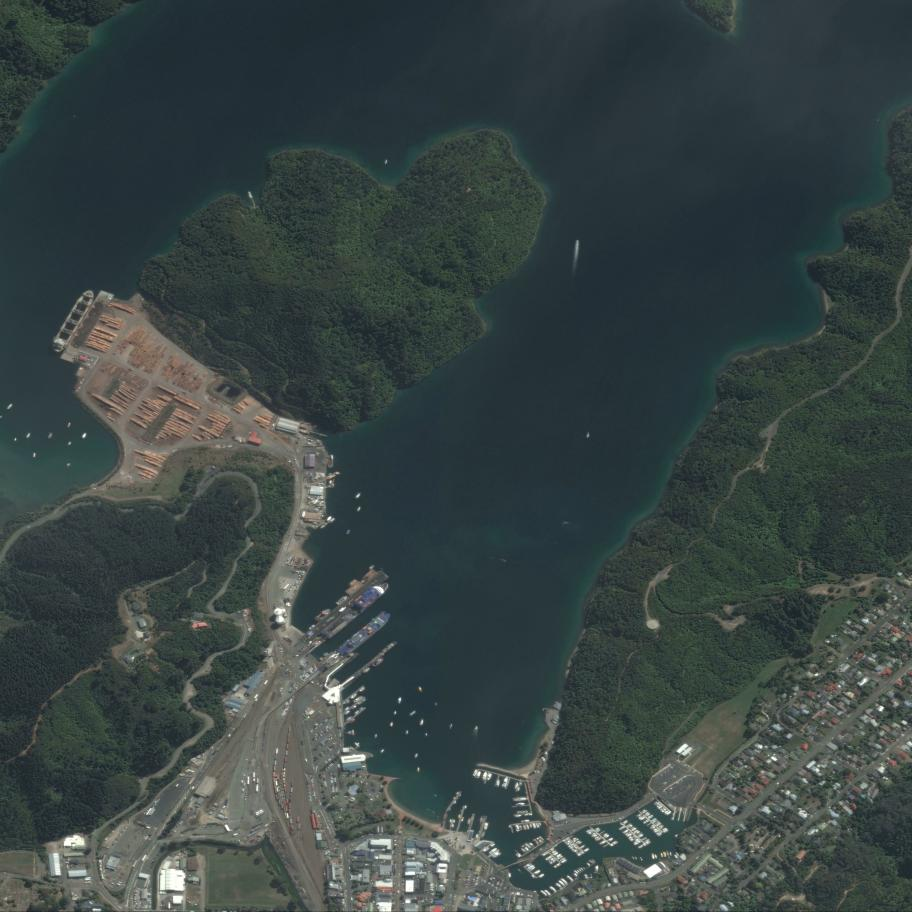large-vehicle: (141, 854, 147, 863), (150, 808, 156, 816), (168, 902, 171, 909), (264, 680, 268, 685), (254, 694, 258, 699), (191, 786, 195, 790), (256, 784, 258, 792), (313, 700, 317, 704), (312, 696, 316, 700), (316, 682, 320, 686), (176, 783, 179, 787), (319, 684, 323, 687), (85, 879, 91, 881), (85, 877, 91, 879), (117, 883, 121, 886), (253, 772, 255, 778), (163, 899, 165, 904), (257, 778, 259, 783), (253, 778, 255, 782), (111, 883, 114, 885)
plane: (354, 741, 361, 747)
ship: (321, 577, 393, 641), (325, 609, 395, 669), (48, 284, 99, 356), (314, 607, 332, 623), (371, 656, 385, 668), (336, 594, 348, 606), (361, 666, 372, 675), (501, 776, 509, 788), (492, 850, 502, 859), (353, 695, 363, 704), (348, 578, 357, 587), (357, 698, 367, 706), (513, 797, 528, 802), (482, 771, 488, 782), (558, 879, 566, 887), (549, 885, 557, 893), (524, 842, 532, 850), (522, 844, 530, 852), (489, 847, 497, 855), (540, 890, 548, 897), (566, 875, 574, 882), (561, 877, 568, 885), (544, 889, 552, 896), (643, 840, 651, 847), (482, 846, 490, 853), (486, 773, 493, 781), (533, 869, 541, 876), (610, 840, 618, 847), (517, 810, 528, 815), (299, 429, 310, 434), (483, 822, 489, 831), (480, 830, 486, 839), (516, 802, 526, 807), (634, 839, 641, 846), (632, 837, 639, 844), (533, 838, 540, 845), (528, 841, 535, 848), (515, 852, 522, 859), (409, 710, 416, 717), (351, 692, 358, 699), (525, 862, 532, 869), (368, 564, 375, 571), (307, 498, 314, 505), (25, 431, 31, 439), (348, 718, 356, 724), (301, 510, 306, 519), (556, 882, 562, 889), (583, 847, 590, 853), (47, 432, 53, 439), (630, 836, 637, 842), (628, 834, 635, 840), (7, 403, 13, 410), (520, 847, 526, 854), (345, 716, 352, 722), (542, 852, 549, 858), (555, 853, 562, 859), (557, 855, 564, 861), (554, 863, 561, 869), (548, 857, 555, 863), (546, 855, 553, 861), (603, 834, 610, 840), (601, 832, 608, 838), (326, 515, 332, 522), (82, 431, 87, 439), (514, 782, 519, 790), (476, 771, 481, 779), (496, 779, 501, 787), (397, 696, 402, 704), (586, 828, 592, 834), (578, 851, 584, 857), (623, 829, 629, 835), (521, 819, 530, 823), (643, 819, 649, 825), (539, 873, 545, 879), (529, 866, 535, 872), (551, 849, 557, 855), (553, 851, 559, 857), (550, 859, 556, 865), (343, 699, 349, 705), (309, 624, 315, 630), (329, 517, 335, 523), (355, 493, 361, 499), (594, 865, 599, 872), (625, 831, 632, 836), (515, 825, 520, 832), (527, 865, 534, 870), (548, 848, 555, 853), (561, 859, 568, 864), (619, 826, 626, 831), (419, 719, 424, 726), (524, 813, 532, 817), (479, 816, 483, 824), (473, 769, 477, 777), (658, 824, 664, 829), (656, 822, 662, 827), (651, 817, 657, 822), (647, 814, 653, 819), (567, 841, 573, 846), (580, 844, 586, 849), (576, 850, 582, 855), (574, 848, 580, 853), (572, 846, 578, 851), (594, 835, 600, 840), (592, 834, 598, 839), (627, 833, 633, 838), (563, 838, 569, 843), (537, 837, 542, 843), (490, 843, 496, 848), (656, 803, 662, 808), (666, 811, 672, 816), (638, 814, 644, 819), (560, 857, 566, 862), (627, 824, 633, 829), (600, 840, 606, 845), (608, 837, 613, 843), (631, 827, 637, 832), (596, 837, 602, 842), (633, 829, 639, 834), (570, 845, 576, 850), (568, 843, 574, 848), (344, 706, 350, 711), (351, 705, 357, 710), (354, 710, 360, 715), (356, 506, 361, 512), (313, 499, 318, 505), (467, 818, 471, 825), (515, 814, 522, 818), (522, 824, 526, 831), (331, 482, 335, 489), (655, 829, 660, 834), (651, 826, 656, 831), (591, 832, 596, 837), (539, 836, 544, 841), (653, 819, 658, 824), (589, 830, 594, 835), (577, 867, 582, 872), (573, 872, 578, 877), (574, 838, 579, 843), (639, 844, 644, 849), (644, 838, 649, 843), (635, 830, 640, 835), (565, 839, 570, 844), (658, 805, 663, 810), (662, 808, 667, 813), (380, 749, 385, 754), (626, 823, 631, 828), (623, 819, 628, 824), (319, 499, 324, 504), (360, 687, 365, 692), (345, 710, 350, 715), (316, 499, 321, 504), (320, 524, 325, 529), (311, 499, 316, 504), (656, 831, 662, 835), (654, 821, 660, 825), (460, 816, 464, 822), (67, 422, 71, 428), (642, 837, 648, 841), (575, 840, 581, 844), (663, 851, 667, 857), (651, 853, 655, 859), (642, 810, 648, 814), (640, 817, 646, 821), (418, 686, 422, 692), (519, 825, 523, 831), (526, 824, 530, 830), (532, 823, 536, 829), (328, 479, 332, 485), (449, 723, 453, 729), (346, 529, 350, 535), (536, 822, 539, 829), (674, 854, 678, 859), (676, 852, 680, 857), (664, 829, 669, 833), (646, 813, 651, 817), (644, 812, 649, 816), (662, 827, 667, 831), (384, 159, 388, 164), (68, 441, 72, 446), (572, 837, 577, 841), (519, 782, 523, 787), (453, 800, 457, 805), (455, 791, 459, 796), (517, 787, 521, 792), (531, 874, 535, 879), (653, 801, 658, 805), (655, 803, 660, 807), (660, 807, 665, 811), (664, 810, 669, 814), (649, 824, 654, 828), (405, 730, 409, 735), (414, 753, 418, 758), (653, 827, 658, 831), (591, 859, 596, 863), (596, 829, 601, 833), (630, 826, 635, 830), (346, 700, 351, 704), (669, 851, 672, 857), (475, 833, 478, 839), (374, 733, 377, 739), (674, 834, 678, 838), (574, 870, 578, 874), (451, 824, 455, 828), (580, 867, 584, 871), (576, 869, 580, 873), (639, 857, 643, 861), (631, 856, 635, 860), (578, 841, 582, 845), (639, 834, 643, 838), (458, 794, 462, 798), (508, 825, 512, 829), (658, 833, 662, 837), (517, 868, 521, 872), (586, 862, 590, 866), (595, 827, 599, 831), (359, 706, 363, 710), (328, 472, 332, 476), (666, 851, 669, 856), (33, 452, 36, 457), (584, 874, 587, 879), (318, 506, 323, 509), (394, 710, 397, 715), (390, 722, 393, 727), (660, 852, 663, 857), (654, 854, 657, 859), (508, 873, 511, 878), (529, 823, 532, 828), (434, 702, 437, 707), (317, 504, 324, 506), (449, 819, 452, 823), (66, 463, 69, 467), (634, 856, 637, 860), (14, 437, 17, 441), (500, 775, 504, 778), (453, 796, 456, 800), (475, 726, 478, 730), (576, 240, 579, 244), (638, 814, 642, 817), (453, 820, 456, 824), (539, 822, 542, 826), (458, 814, 460, 819), (417, 767, 419, 772), (352, 730, 354, 735), (68, 463, 71, 466), (448, 808, 451, 811), (642, 809, 645, 812), (465, 805, 467, 809), (425, 733, 427, 737), (675, 811, 677, 814), (672, 813, 674, 816), (671, 817, 673, 820), (660, 827, 663, 829), (533, 891, 537, 892), (517, 888, 521, 889), (683, 812, 684, 815)
small-vehicle: (760, 846, 764, 850), (118, 881, 122, 884), (309, 669, 312, 672), (306, 675, 309, 678), (314, 669, 317, 672), (637, 806, 640, 809), (304, 673, 307, 676), (305, 674, 308, 677), (299, 675, 302, 678), (292, 685, 295, 688), (293, 683, 296, 686), (304, 663, 307, 666), (572, 829, 575, 832), (331, 763, 334, 766), (539, 848, 542, 851), (666, 802, 669, 805), (327, 766, 330, 769), (306, 708, 309, 711), (124, 826, 127, 829), (281, 664, 284, 667), (351, 848, 354, 851), (401, 902, 404, 905), (312, 786, 315, 789), (311, 784, 314, 787), (311, 781, 314, 784), (313, 794, 316, 797), (331, 821, 334, 824), (334, 780, 337, 783), (290, 596, 293, 599), (334, 778, 337, 781), (370, 794, 373, 797), (669, 804, 672, 807), (826, 803, 829, 806), (828, 806, 831, 809), (676, 759, 679, 762), (901, 745, 904, 748), (705, 863, 708, 866), (715, 849, 718, 852), (771, 835, 774, 838), (402, 882, 405, 885), (856, 768, 859, 771), (528, 774, 531, 777), (886, 614, 889, 617), (701, 846, 704, 849), (394, 851, 397, 854), (403, 847, 406, 850), (93, 488, 97, 490), (431, 893, 435, 895), (664, 782, 668, 784), (283, 712, 285, 715), (310, 670, 312, 673), (292, 695, 294, 698), (310, 671, 313, 673), (316, 668, 318, 671), (244, 714, 247, 716), (539, 905, 541, 908), (287, 706, 289, 709), (286, 708, 288, 711), (285, 708, 287, 711), (460, 902, 463, 904), (445, 904, 447, 907), (631, 810, 633, 813), (495, 888, 498, 890), (669, 888, 671, 891), (640, 882, 643, 884), (619, 817, 621, 820), (621, 817, 624, 819), (622, 816, 625, 818), (315, 666, 317, 669), (431, 886, 434, 888), (632, 896, 635, 898), (457, 880, 460, 882), (450, 894, 452, 897), (316, 745, 319, 747), (321, 752, 324, 754), (315, 738, 317, 741), (319, 742, 322, 744), (536, 906, 539, 908), (301, 678, 303, 681), (305, 662, 307, 665), (304, 660, 307, 662), (304, 672, 306, 675), (308, 668, 310, 671), (307, 670, 309, 673), (319, 746, 321, 749), (284, 712, 286, 715), (311, 667, 313, 670), (577, 826, 579, 829), (546, 844, 549, 846), (334, 848, 337, 850), (465, 874, 468, 876), (463, 879, 466, 881), (491, 884, 494, 886), (491, 883, 494, 885), (492, 880, 495, 882), (295, 687, 298, 689), (289, 689, 291, 692), (282, 711, 284, 714), (457, 882, 460, 884), (323, 739, 326, 741), (243, 774, 245, 777), (651, 798, 654, 800), (325, 761, 327, 764), (325, 738, 328, 740), (329, 727, 331, 730), (304, 711, 307, 713), (320, 734, 322, 737), (281, 692, 283, 695), (496, 901, 499, 903), (667, 803, 670, 805), (668, 803, 670, 806), (538, 905, 540, 908), (325, 768, 328, 770), (326, 729, 328, 732), (282, 716, 284, 719), (316, 726, 318, 729), (330, 723, 333, 725), (318, 733, 321, 735), (233, 728, 235, 731), (312, 729, 314, 732), (307, 707, 310, 709), (328, 728, 330, 731), (322, 740, 325, 742), (125, 825, 128, 827), (114, 840, 117, 842), (115, 838, 118, 840), (119, 834, 122, 836), (28, 526, 31, 528), (133, 906, 136, 908), (145, 888, 148, 890), (317, 725, 319, 728), (237, 611, 240, 613), (284, 636, 287, 638), (302, 658, 305, 660), (299, 662, 302, 664), (282, 663, 285, 665), (280, 651, 283, 653), (301, 659, 304, 661), (414, 896, 416, 899), (449, 901, 451, 904), (454, 894, 457, 896), (401, 905, 404, 907), (295, 582, 298, 584), (392, 902, 395, 904), (354, 846, 356, 849), (314, 797, 317, 799), (311, 783, 314, 785), (339, 855, 342, 857), (313, 792, 316, 794), (312, 788, 315, 790), (295, 588, 298, 590), (311, 778, 313, 781), (313, 793, 316, 795), (299, 580, 302, 582), (311, 525, 314, 527), (298, 577, 301, 579), (296, 580, 299, 582), (334, 843, 337, 845), (305, 476, 308, 478), (335, 790, 338, 792), (337, 763, 340, 765), (335, 795, 337, 798), (379, 784, 382, 786), (366, 783, 368, 786), (296, 586, 299, 588), (296, 586, 299, 588), (297, 584, 300, 586), (897, 604, 900, 606), (329, 773, 332, 775), (349, 774, 351, 777), (344, 796, 347, 798), (329, 774, 332, 776), (377, 795, 380, 797), (305, 475, 308, 477), (180, 821, 183, 823), (325, 719, 327, 722), (324, 720, 326, 723), (316, 723, 319, 725), (320, 723, 322, 726), (301, 663, 304, 665), (302, 572, 305, 574), (332, 791, 335, 793), (331, 784, 334, 786), (124, 905, 126, 908), (328, 724, 331, 726), (179, 822, 182, 824), (333, 773, 336, 775), (332, 790, 335, 792), (330, 778, 333, 780), (331, 785, 334, 787), (330, 780, 333, 782), (335, 844, 338, 846), (248, 625, 250, 628), (280, 648, 283, 650), (280, 649, 283, 651), (482, 868, 485, 870), (475, 880, 478, 882), (496, 884, 499, 886), (504, 887, 507, 889), (504, 885, 507, 887), (527, 894, 529, 897), (836, 795, 839, 797), (661, 784, 664, 786), (673, 776, 676, 778), (707, 847, 710, 849), (663, 783, 666, 785), (480, 881, 483, 883), (676, 782, 679, 784), (837, 756, 840, 758), (378, 792, 381, 794), (467, 878, 470, 880), (893, 608, 896, 610), (551, 833, 554, 835), (555, 840, 558, 842), (671, 767, 673, 770), (303, 661, 305, 664), (380, 786, 383, 788), (338, 766, 341, 768), (465, 884, 468, 886), (711, 872, 713, 875), (700, 869, 703, 871), (730, 863, 733, 865), (538, 770, 540, 773), (465, 886, 468, 888), (464, 887, 467, 889), (468, 874, 471, 876), (467, 877, 470, 879), (809, 735, 811, 738), (309, 800, 312, 802), (330, 734, 333, 736), (335, 789, 338, 791), (529, 782, 532, 784), (534, 780, 536, 783), (701, 868, 704, 870), (338, 750, 340, 753), (330, 764, 332, 767), (338, 767, 341, 769), (336, 753, 338, 756), (325, 853, 328, 855), (314, 798, 317, 800), (330, 748, 333, 750), (307, 789, 310, 791), (339, 730, 341, 733), (330, 757, 332, 760), (328, 750, 331, 752), (329, 749, 332, 751), (328, 759, 330, 762), (403, 849, 406, 851), (329, 758, 331, 761), (729, 833, 731, 836), (832, 737, 834, 740), (714, 774, 717, 776), (732, 796, 735, 798), (731, 825, 734, 827), (726, 836, 729, 838), (684, 764, 686, 767), (497, 881, 500, 883), (828, 751, 831, 753), (839, 759, 842, 761), (851, 769, 854, 771), (326, 718, 328, 721), (335, 788, 338, 790), (307, 788, 310, 790), (340, 893, 342, 896), (314, 800, 317, 802), (348, 859, 350, 862), (287, 702, 289, 704), (287, 703, 289, 705), (454, 896, 456, 898), (290, 701, 292, 703), (312, 671, 314, 673), (303, 717, 305, 719), (497, 899, 499, 901), (286, 704, 288, 706), (452, 909, 454, 911), (283, 709, 285, 711), (307, 676, 309, 678), (304, 680, 306, 682), (304, 678, 306, 680), (620, 817, 622, 819), (305, 710, 307, 712), (315, 727, 317, 729), (634, 809, 636, 811), (616, 900, 618, 902), (540, 905, 542, 907), (305, 678, 307, 680), (319, 743, 321, 745), (327, 747, 329, 749), (322, 741, 324, 743), (318, 736, 320, 738), (318, 744, 320, 746), (314, 665, 316, 667), (304, 664, 306, 666), (303, 665, 305, 667), (304, 660, 306, 662), (280, 667, 282, 669), (302, 674, 304, 676), (296, 685, 298, 687), (310, 667, 312, 669), (303, 671, 305, 673), (302, 675, 304, 677), (395, 848, 397, 850), (452, 880, 454, 882), (459, 876, 461, 878), (457, 883, 459, 885), (492, 881, 494, 883), (326, 761, 328, 763), (290, 687, 292, 689), (300, 677, 302, 679), (280, 690, 282, 692), (327, 737, 329, 739), (326, 727, 328, 729), (283, 714, 285, 716), (648, 793, 650, 795), (666, 801, 668, 803), (280, 688, 282, 690), (650, 799, 652, 801), (491, 898, 493, 900), (491, 900, 493, 902), (323, 775, 325, 777), (327, 726, 329, 728), (322, 733, 324, 735), (430, 885, 434, 886), (323, 729, 325, 731), (290, 698, 292, 700), (313, 729, 315, 731), (325, 727, 327, 729), (319, 732, 321, 734), (311, 731, 313, 733), (314, 736, 316, 738), (557, 839, 559, 841), (134, 898, 136, 900), (134, 901, 136, 903), (475, 881, 477, 883), (329, 765, 331, 767), (366, 864, 368, 866), (398, 883, 400, 885), (123, 829, 125, 831), (142, 907, 144, 909), (147, 899, 149, 901), (179, 823, 181, 825), (141, 907, 143, 909), (65, 862, 69, 863), (301, 664, 303, 666), (244, 610, 246, 612), (243, 614, 245, 616), (293, 587, 295, 589), (300, 661, 302, 663), (299, 663, 301, 665), (244, 615, 246, 617), (301, 660, 303, 662), (558, 838, 560, 840), (375, 907, 377, 909), (425, 898, 427, 900), (463, 896, 465, 898), (453, 873, 455, 875), (340, 854, 342, 856), (432, 894, 434, 896), (392, 903, 394, 905), (419, 897, 421, 899), (421, 870, 423, 872), (429, 871, 431, 873), (422, 897, 424, 899), (296, 581, 298, 583), (295, 583, 297, 585), (311, 780, 313, 782), (313, 790, 315, 792), (295, 584, 297, 586), (306, 780, 308, 782), (312, 786, 314, 788), (332, 788, 334, 790), (299, 581, 301, 583), (334, 777, 336, 779), (332, 841, 334, 843), (394, 866, 396, 868), (394, 864, 396, 866), (394, 863, 396, 865), (394, 856, 396, 858), (246, 623, 248, 625), (398, 873, 400, 875), (343, 775, 345, 777), (354, 775, 356, 777), (299, 582, 301, 584), (369, 794, 371, 796), (330, 776, 332, 778), (306, 473, 308, 475), (298, 583, 300, 585), (292, 594, 294, 596), (359, 776, 361, 778), (332, 722, 334, 724), (302, 662, 304, 664), (197, 808, 199, 810), (196, 811, 198, 813), (193, 815, 195, 817), (300, 571, 302, 573), (148, 900, 150, 902), (319, 724, 321, 726), (318, 725, 320, 727), (394, 867, 396, 869), (332, 789, 334, 791), (332, 787, 334, 789), (332, 786, 334, 788), (413, 897, 415, 899), (368, 834, 370, 836), (394, 869, 396, 871), (331, 782, 333, 784), (493, 877, 495, 879), (483, 881, 485, 883), (498, 879, 500, 881), (496, 885, 498, 887), (497, 883, 499, 885), (499, 886, 501, 888), (490, 879, 492, 881), (376, 796, 378, 798), (682, 864, 684, 866), (714, 849, 716, 851), (489, 882, 491, 884), (483, 882, 485, 884), (545, 815, 547, 817), (481, 879, 483, 881), (466, 882, 468, 884), (535, 771, 537, 773), (661, 774, 663, 776), (713, 872, 715, 874), (703, 867, 705, 869), (709, 865, 711, 867), (530, 786, 532, 788), (402, 884, 404, 886), (484, 865, 486, 867), (474, 876, 476, 878), (473, 875, 475, 877), (473, 877, 475, 879), (671, 806, 673, 808), (466, 883, 468, 885), (443, 907, 445, 909), (332, 756, 334, 758), (338, 752, 340, 754), (333, 755, 335, 757), (403, 880, 405, 882), (331, 737, 333, 739), (328, 735, 330, 737), (664, 772, 666, 774), (528, 776, 530, 778), (338, 765, 340, 767), (309, 796, 311, 798), (309, 795, 311, 797), (336, 753, 338, 755), (333, 743, 335, 745), (730, 833, 732, 835), (315, 735, 317, 737), (316, 734, 318, 736), (687, 766, 689, 768), (713, 776, 715, 778), (703, 806, 705, 808), (727, 835, 729, 837), (344, 883, 346, 885), (305, 775, 307, 777), (497, 882, 499, 884), (728, 835, 730, 837), (678, 761, 680, 763), (673, 807, 675, 809), (340, 890, 342, 892), (670, 805, 672, 807), (326, 851, 328, 853), (328, 851, 330, 853), (330, 894, 332, 896), (349, 873, 351, 875), (282, 687, 283, 690), (284, 710, 285, 713), (449, 906, 450, 909), (643, 882, 646, 883), (612, 819, 613, 822), (452, 906, 455, 907), (302, 714, 305, 715), (431, 884, 434, 885), (324, 785, 327, 786), (370, 834, 373, 835), (447, 878, 448, 881), (324, 739, 327, 740), (532, 901, 533, 904), (431, 883, 434, 884), (320, 742, 323, 743), (282, 714, 283, 717), (430, 899, 433, 900), (430, 901, 433, 902), (368, 863, 369, 866), (133, 905, 136, 906), (294, 585, 297, 586), (453, 899, 456, 900), (453, 898, 456, 899), (461, 900, 464, 901), (368, 839, 371, 840), (371, 838, 374, 839), (430, 900, 433, 901), (305, 779, 308, 780), (301, 577, 304, 578), (335, 787, 338, 788), (500, 883, 503, 884), (659, 775, 660, 778), (324, 786, 327, 787), (150, 891, 151, 894), (330, 781, 333, 782), (379, 786, 382, 787), (337, 848, 340, 849), (349, 867, 350, 870), (501, 880, 504, 881), (504, 887, 507, 888), (670, 779, 673, 780), (495, 887, 498, 888), (497, 880, 500, 881), (498, 889, 501, 890), (476, 877, 479, 878), (477, 876, 480, 877), (669, 788, 672, 789), (488, 883, 491, 884), (549, 836, 552, 837), (668, 769, 669, 772), (471, 882, 474, 883), (466, 881, 469, 882), (537, 770, 538, 773), (474, 884, 477, 885), (566, 821, 567, 824), (551, 828, 554, 829), (335, 754, 336, 757), (325, 856, 328, 857), (308, 793, 311, 794), (323, 778, 326, 779), (658, 776, 659, 779), (329, 738, 330, 741), (346, 899, 347, 902), (309, 799, 312, 800), (305, 777, 308, 778), (680, 780, 683, 781), (323, 781, 326, 782), (323, 780, 326, 781), (325, 853, 328, 854), (325, 851, 328, 852), (309, 798, 312, 799), (287, 669, 289, 670), (291, 699, 292, 701), (464, 895, 466, 896), (286, 702, 287, 704), (532, 899, 533, 901), (447, 904, 448, 906), (521, 894, 522, 896), (522, 894, 523, 896), (616, 819, 617, 821), (289, 671, 291, 672), (450, 897, 451, 899), (285, 670, 287, 671), (323, 743, 324, 745), (289, 674, 291, 675), (458, 879, 460, 880), (475, 883, 477, 884), (289, 672, 291, 673), (491, 902, 493, 903), (243, 778, 244, 780), (289, 673, 291, 674), (346, 775, 347, 777), (289, 698, 290, 700), (315, 724, 317, 725), (321, 731, 323, 732), (381, 862, 383, 863), (147, 905, 148, 907), (134, 897, 136, 898), (146, 905, 147, 907), (145, 905, 146, 907), (140, 902, 141, 904), (138, 903, 139, 905), (135, 894, 137, 895), (293, 587, 295, 588), (332, 726, 333, 728), (365, 864, 366, 866), (428, 871, 429, 873), (294, 586, 296, 587), (146, 907, 147, 909), (134, 904, 136, 905), (135, 891, 137, 892), (372, 882, 373, 884), (417, 875, 418, 877), (453, 875, 454, 877), (461, 901, 463, 902), (373, 865, 375, 866), (377, 872, 378, 874), (432, 890, 434, 891), (340, 857, 342, 858), (374, 872, 375, 874), (436, 885, 437, 887), (329, 857, 331, 858), (459, 875, 461, 876), (401, 861, 402, 863), (149, 907, 150, 909), (138, 907, 139, 909), (402, 889, 404, 890), (307, 785, 309, 786), (339, 890, 340, 892), (139, 907, 140, 909), (297, 585, 299, 586), (324, 784, 326, 785), (352, 775, 353, 777), (365, 776, 366, 778), (357, 781, 358, 783), (361, 781, 362, 783), (293, 589, 295, 590), (330, 777, 332, 778), (336, 812, 338, 813), (296, 588, 298, 589), (324, 783, 326, 784), (137, 907, 138, 909), (150, 902, 151, 904), (150, 905, 151, 907), (295, 590, 297, 591), (296, 571, 298, 572), (303, 571, 305, 572), (149, 898, 150, 900), (149, 905, 150, 907), (150, 900, 151, 902), (150, 888, 151, 890), (150, 894, 151, 896), (489, 881, 491, 882), (499, 888, 501, 889), (490, 878, 492, 879), (335, 786, 337, 787), (499, 886, 501, 887), (500, 885, 502, 886), (501, 881, 503, 882), (471, 884, 473, 885), (529, 895, 530, 897), (530, 895, 531, 897), (531, 895, 532, 897), (503, 890, 505, 891), (500, 884, 502, 885), (481, 879, 483, 880), (476, 878, 478, 879), (480, 883, 482, 884), (481, 881, 483, 882), (484, 880, 486, 881), (488, 884, 490, 885), (471, 883, 473, 884), (467, 880, 469, 881), (467, 879, 469, 880), (472, 881, 474, 882), (672, 775, 674, 776), (483, 867, 485, 868), (463, 883, 465, 884), (473, 879, 475, 880), (473, 878, 475, 879), (472, 880, 474, 881), (463, 885, 465, 886), (468, 876, 470, 877), (335, 735, 336, 737), (529, 782, 531, 783), (340, 740, 341, 742), (329, 894, 330, 896), (334, 894, 335, 896), (328, 851, 330, 852), (362, 836, 364, 837), (308, 792, 310, 793), (402, 893, 404, 894), (345, 890, 346, 892), (324, 782, 326, 783), (340, 733, 341, 735), (340, 745, 341, 747), (325, 854, 327, 855), (328, 892, 329, 894), (346, 895, 347, 897), (663, 773, 664, 775), (689, 785, 690, 787), (323, 779, 325, 780), (476, 880, 478, 881), (501, 882, 503, 883), (340, 886, 341, 888), (332, 894, 333, 896), (307, 786, 309, 787), (328, 894, 329, 896), (342, 894, 343, 896), (341, 888, 342, 890), (328, 854, 330, 855), (328, 853, 330, 854), (340, 888, 341, 890), (350, 879, 351, 881), (339, 888, 340, 890), (138, 888, 139, 889), (504, 889, 505, 890), (335, 895, 336, 896), (450, 904, 450, 906), (341, 881, 343, 881)
storage-tank: (275, 616, 285, 623), (274, 608, 283, 615)
